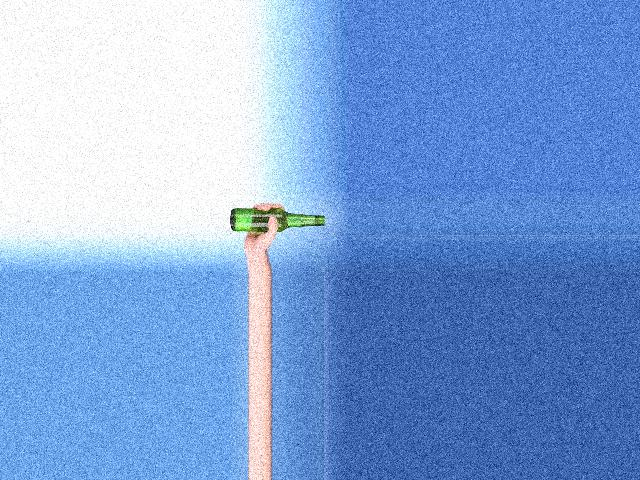beer: (230, 209, 325, 231)
